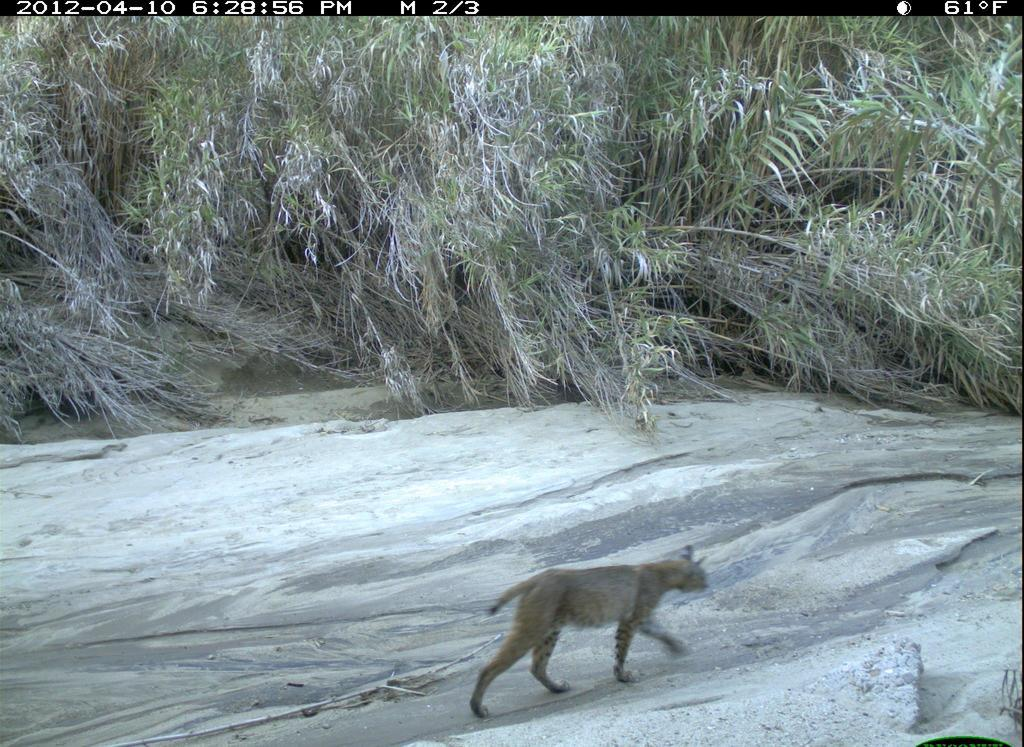bobcat: (452, 538, 722, 735)
